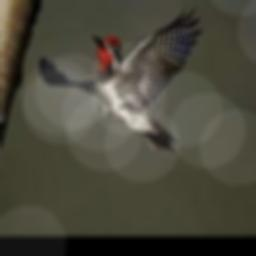Woodpecker: (40, 5, 203, 152)
